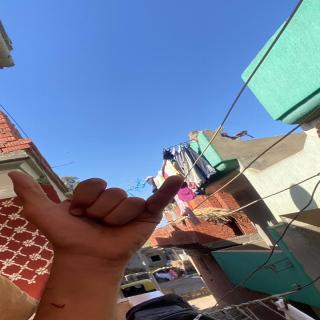YA: (0, 168, 194, 252)
